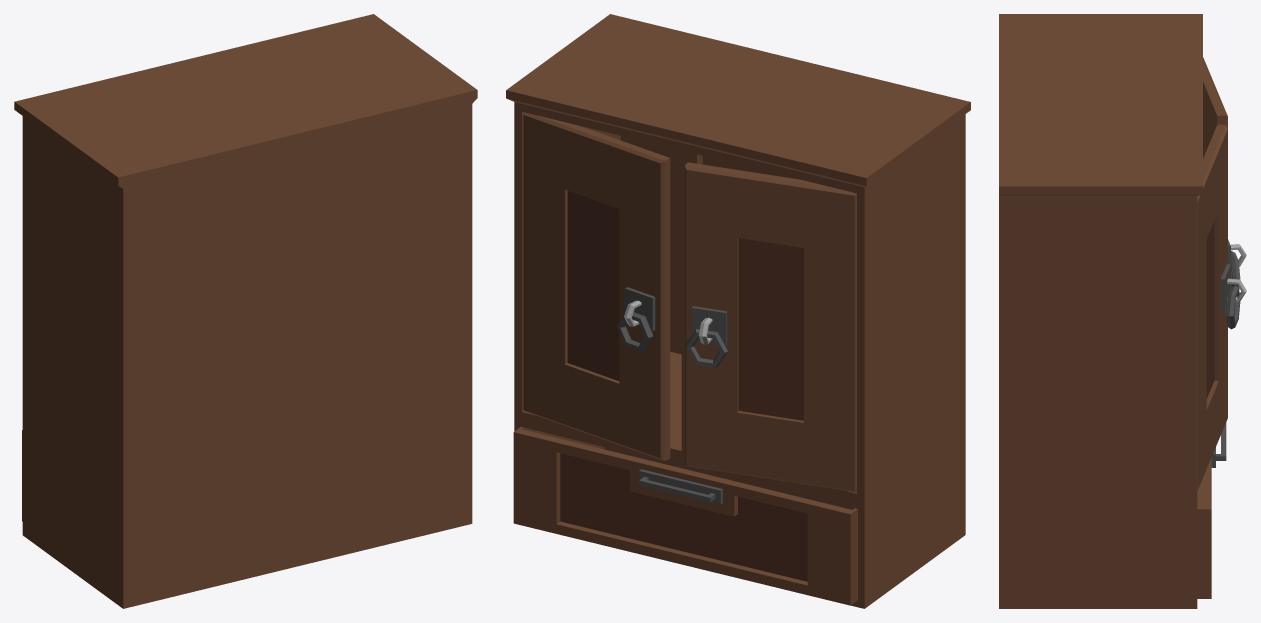
File: Cabinet.fbx
The picture shows the model from 3 angles, left to right: view 1: azimuth 30°, elevation 25°; view 2: azimuth 150°, elevation 25°; view 3: azimuth 270°, elevation 25°; orthographic projection. The views are drawn at different scales.
Parts seen in each view (by area): view 1: Cabinet; view 2: Cabinet; view 3: Cabinet.
Boxes of the visible parts, box(x1,y1,x2,y2) form: Cabinet: box(14, 14, 477, 608); Cabinet: box(506, 14, 970, 608); Cabinet: box(999, 14, 1246, 608).
Size of the model in its own units: 206 by 237 by 125.
